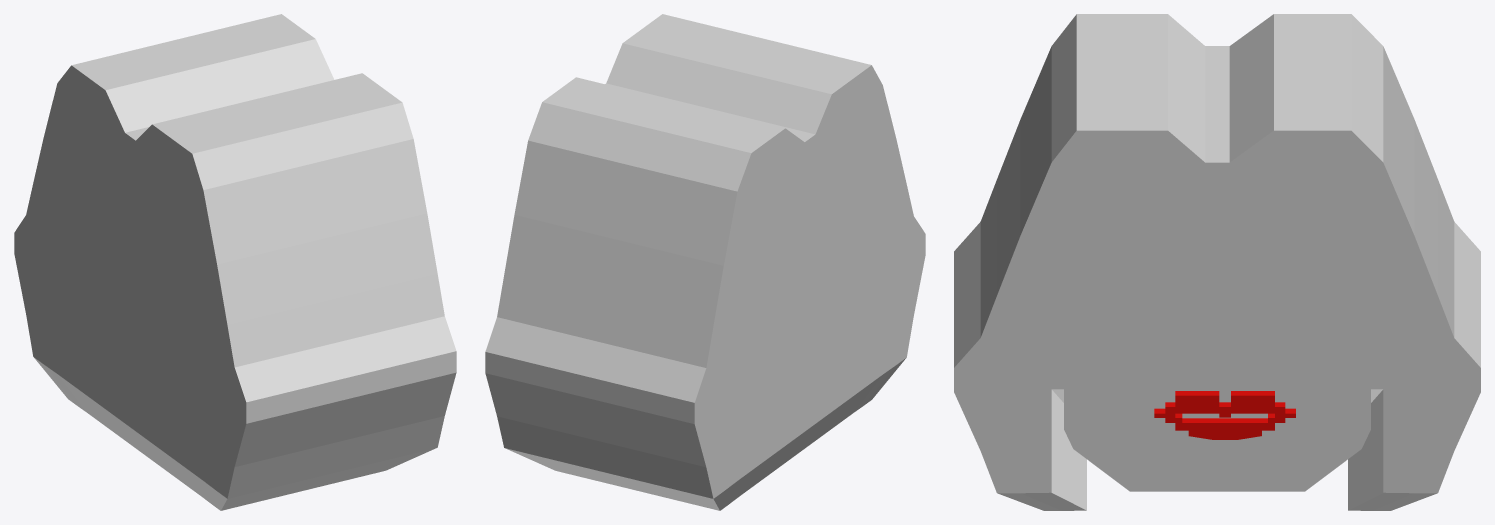
File: HeadFemmeFatale.fbx
3 views of the same model, side by side, from view 1: azimuth 30°, elevation 25°; view 2: azimuth 150°, elevation 25°; view 3: azimuth 270°, elevation 25° (orthographic). The views are drawn at different scales.
Parts seen in each view (by area): view 1: Cube.001; view 2: Cube.001; view 3: Cube.001, Cube, Cube.002.
Boxes of the visible parts, box(x1,y1,x2,y2) form: Cube.001: box(14, 14, 456, 510); Cube.001: box(485, 14, 925, 510); Cube.001: box(954, 14, 1480, 510); Cube: box(1064, 193, 1370, 491); Cube.002: box(1154, 391, 1295, 439).
Size of the model in its own units: 147 by 234 by 281.
